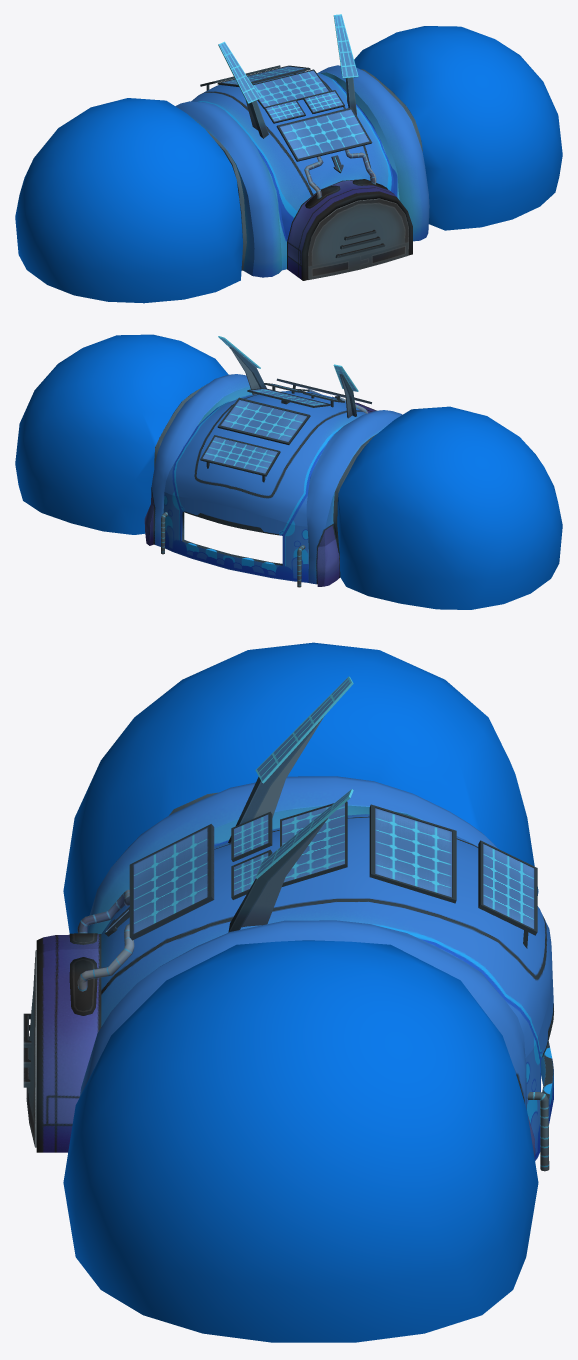
File: 36_Estructura_Altura.fbx
3 views of the same model, one above another, from view 1: azimuth 30°, elevation 25°; view 2: azimuth 150°, elevation 25°; view 3: azimuth 270°, elevation 25° (orthographic). The views are drawn at different scales.
Visible parts, largest first — view 1: Ojo, Extension_Lateral, Puerta_Superior, Panel, Puertas_Baja_Der, Puertas_Baja_Iz; view 2: Ojo, Extension_Lateral, Panel; view 3: Ojo, Extension_Lateral, Panel, Puerta_Superior.
Boxes of the visible parts, <box> form: Ojo: <box>15,26,562,303</box>; Extension_Lateral: <box>175,65,429,280</box>; Puerta_Superior: <box>307,198,408,266</box>; Panel: <box>218,14,358,138</box>; Puertas_Baja_Der: <box>308,256,368,279</box>; Puertas_Baja_Iz: <box>360,242,408,269</box>; Ojo: <box>15,334,562,609</box>; Extension_Lateral: <box>144,374,402,587</box>; Panel: <box>218,336,358,418</box>; Ojo: <box>63,642,538,1342</box>; Extension_Lateral: <box>36,776,553,1171</box>; Panel: <box>228,676,353,932</box>; Puerta_Superior: <box>23,950,36,1120</box>.
Bounding box in the file's own units: 3687 × 1250 × 1636.
